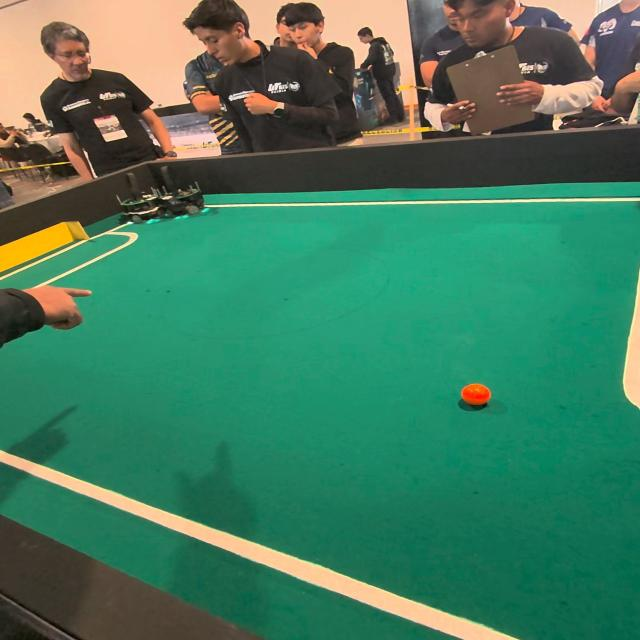Robot: (104, 168, 167, 233), (163, 166, 219, 223)
pelota: (459, 383, 492, 410)
